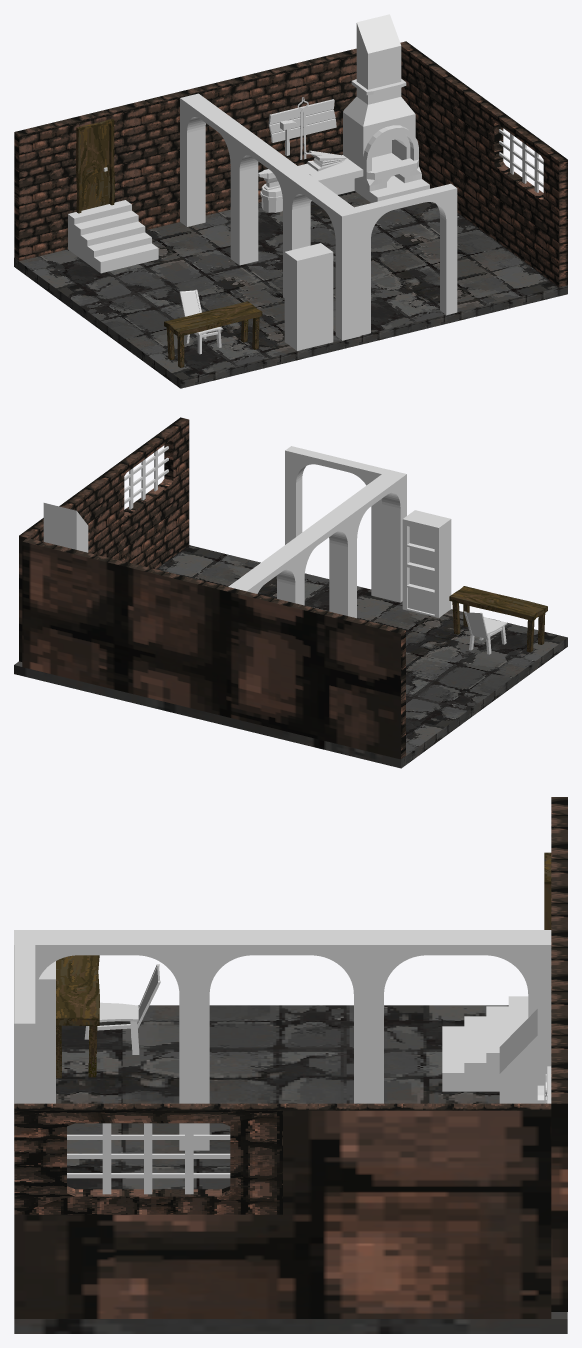
Rendered from Level-1.fbx.
The picture shows the model from 3 angles, top to bottom: view 1: azimuth 30°, elevation 25°; view 2: azimuth 150°, elevation 25°; view 3: azimuth 270°, elevation 25°; orthographic projection. The views are drawn at different scales.
Visible parts, largest first — view 1: Isometric-View, Isometric-View.001, Cube, Arc-To-Room.001, Arc-To-Room.003, Bookshelf_Thin, Arc-To-Room, Staircase, Arc-To-Room.002, Table, Door, Tool_Shelf (+5 smaller); view 2: Isometric-View, Isometric-View.001, Bookshelf_Thin, Arc-To-Room.001, Arc-To-Room, Arc-To-Room.002, Table, Arc-To-Room.003, Cube, Window, Chair; view 3: Isometric-View, Isometric-View.001, Arc-To-Room.003, Arc-To-Room.002, Arc-To-Room.001, Staircase, Window, Table, Arc-To-Room, Cube, Bookshelf_Thin, Chair.
Part boxes in pixels (box(x1,y1,x2,y2)): Isometric-View: box(14, 41, 567, 287); Isometric-View.001: box(14, 191, 567, 388); Cube: box(298, 14, 429, 202); Arc-To-Room.001: box(289, 173, 360, 340); Arc-To-Room.003: box(180, 93, 254, 263); Bookshelf_Thin: box(284, 243, 333, 350); Arc-To-Room: box(354, 183, 457, 335); Staircase: box(68, 200, 158, 273); Arc-To-Room.002: box(237, 135, 307, 298); Table: box(164, 301, 262, 367); Door: box(81, 124, 110, 210); Tool_Shelf: box(268, 99, 336, 142); Isometric-View: box(19, 417, 405, 759); Isometric-View.001: box(14, 545, 567, 768); Bookshelf_Thin: box(402, 510, 451, 617); Arc-To-Room.001: box(336, 469, 406, 618); Arc-To-Room: box(285, 446, 387, 597); Arc-To-Room.002: box(283, 508, 354, 617); Table: box(449, 586, 547, 652); Arc-To-Room.003: box(228, 546, 301, 604); Cube: box(43, 503, 88, 552); Window: box(124, 446, 168, 509); Chair: box(464, 611, 507, 654); Isometric-View: box(14, 797, 567, 1318); Isometric-View.001: box(14, 1005, 567, 1333); Arc-To-Room.003: box(362, 930, 551, 1103); Arc-To-Room.002: box(188, 930, 362, 1150); Arc-To-Room.001: box(14, 930, 188, 1150); Staircase: box(442, 996, 528, 1091); Window: box(67, 1123, 230, 1194); Table: box(56, 955, 99, 1078); Arc-To-Room: box(14, 945, 35, 1103); Cube: box(499, 1009, 537, 1103); Bookshelf_Thin: box(35, 961, 55, 1103); Chair: box(84, 964, 160, 1056).
Size of the model in its own units: 1332 by 557 by 993.
